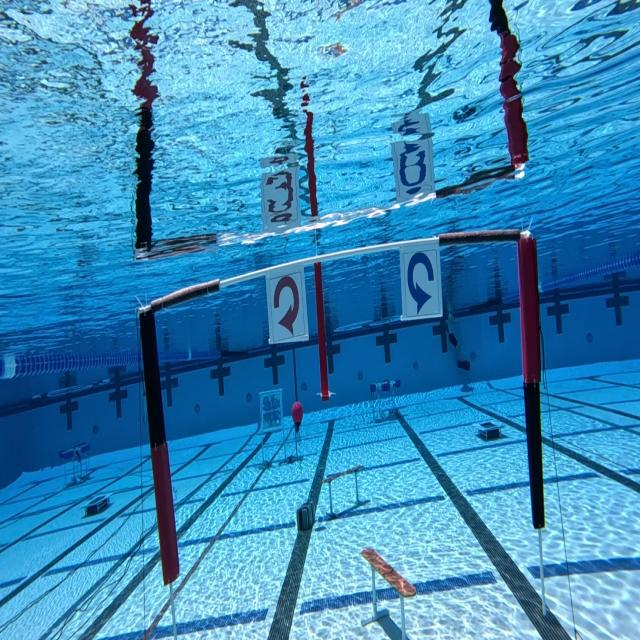blue_side: (403, 240, 435, 322)
red_side: (272, 267, 308, 337)
